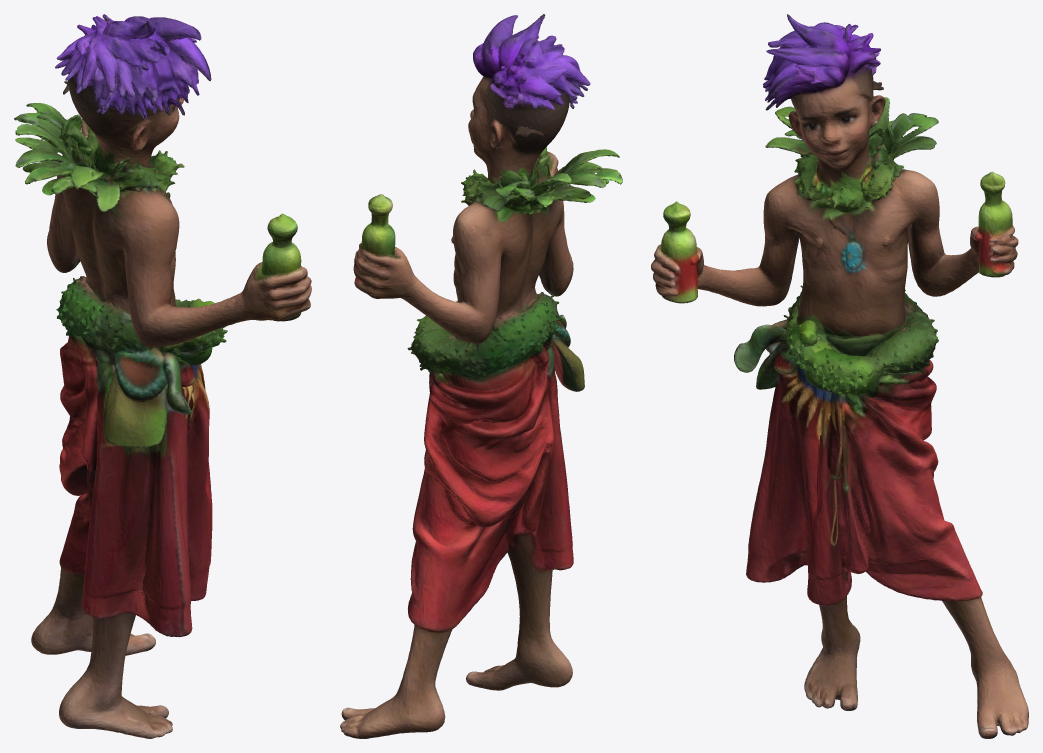
Rendered from modelo24.glb.
The picture shows the model from 3 angles, left to right: view 1: azimuth 30°, elevation 25°; view 2: azimuth 150°, elevation 25°; view 3: azimuth 270°, elevation 25°; orthographic projection. The views are drawn at different scales.
Visible parts, largest first — view 1: tripo_node_2ce60d1a-36a6-44f2-9286-bcf0605c005a; view 2: tripo_node_2ce60d1a-36a6-44f2-9286-bcf0605c005a; view 3: tripo_node_2ce60d1a-36a6-44f2-9286-bcf0605c005a.
Boxes of the visible parts, bbox=[...] form: tripo_node_2ce60d1a-36a6-44f2-9286-bcf0605c005a: bbox=[14, 14, 311, 738]; tripo_node_2ce60d1a-36a6-44f2-9286-bcf0605c005a: bbox=[340, 14, 622, 738]; tripo_node_2ce60d1a-36a6-44f2-9286-bcf0605c005a: bbox=[651, 14, 1028, 738].
Bounding box in the file's own units: 0.3126 × 1 × 0.5066.
Materials: 1 (1 with a texture image).
